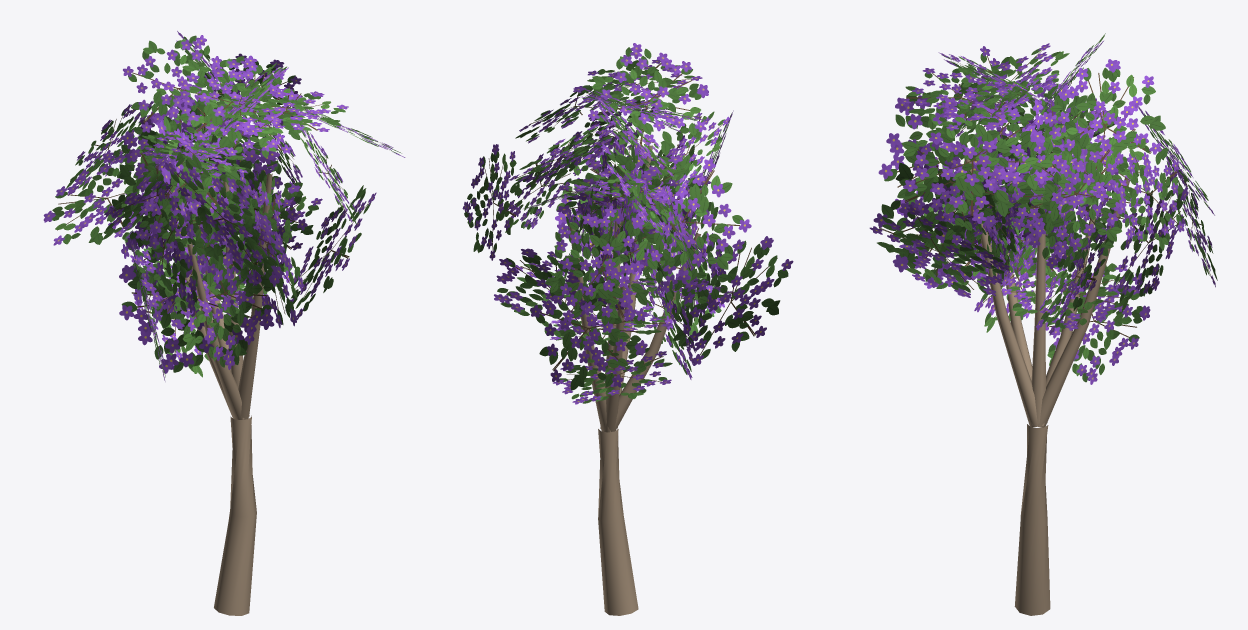
The model's file is pleroma-granulosum.glb.
3 renders of one model, left to right at view 1: azimuth 30°, elevation 25°; view 2: azimuth 150°, elevation 25°; view 3: azimuth 270°, elevation 25°, orthographic. The views are drawn at different scales.
Visible parts, largest first — view 1: folhas, tronco; view 2: folhas, tronco; view 3: folhas, tronco.
Boxes of the visible parts, left/top/right/bottom form: folhas: left=43, top=31, right=405, bottom=381; tronco: left=169, top=173, right=272, bottom=615; folhas: left=462, top=43, right=793, bottom=404; tronco: left=569, top=145, right=700, bottom=615; folhas: left=869, top=33, right=1217, bottom=384; tronco: left=964, top=159, right=1129, bottom=615.
Size of the model in its own units: 4.66 by 8 by 5.
Materials: 2 (1 with a texture image).
